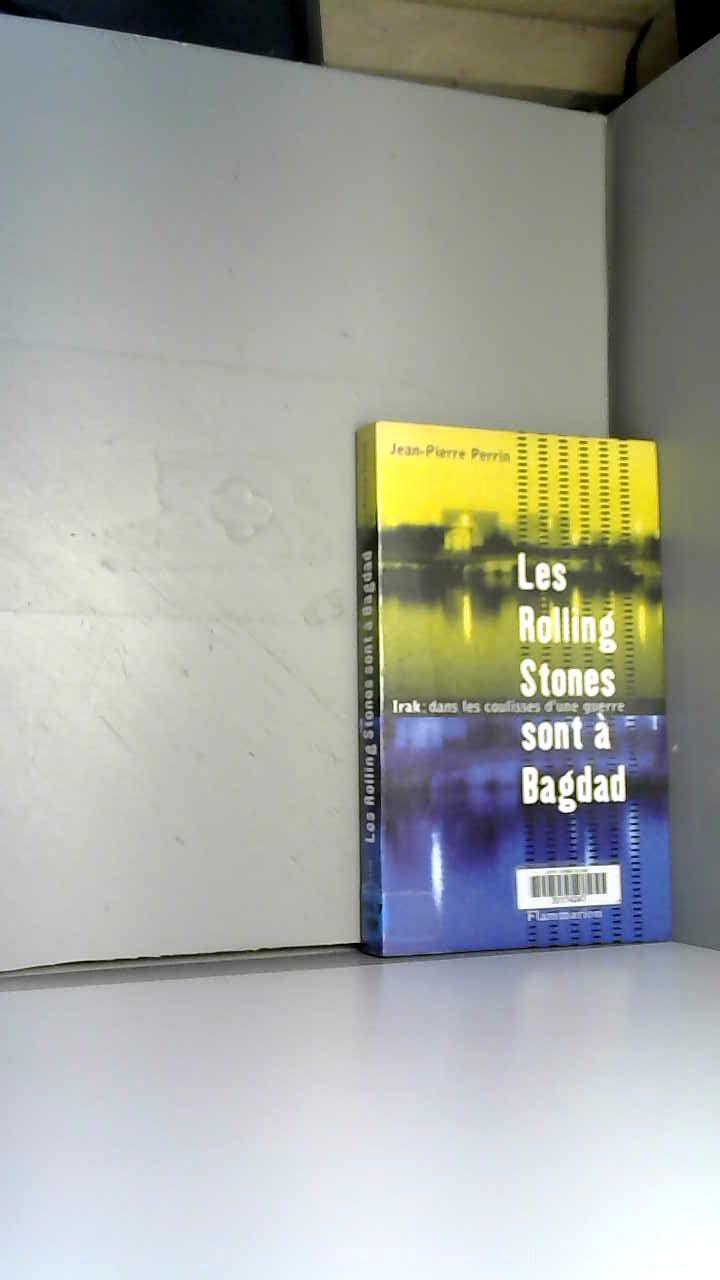book: (317, 379, 704, 995)
